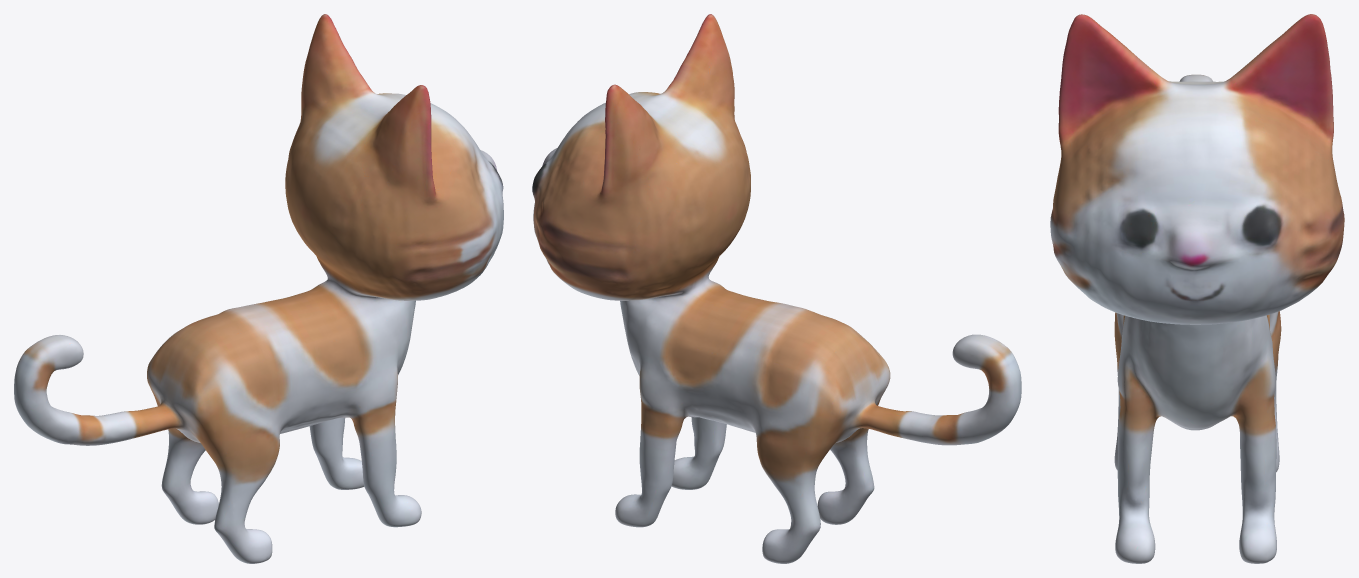
The model's file is cat.glb.
The picture shows the model from 3 angles, left to right: view 1: azimuth 30°, elevation 25°; view 2: azimuth 150°, elevation 25°; view 3: azimuth 270°, elevation 25°; orthographic projection. The views are drawn at different scales.
Visible parts, largest first — view 1: world; view 2: world; view 3: world.
Part boxes in pixels (x1=…): world: x1=14, y1=14, x2=503, y2=563; world: x1=532, y1=14, x2=1021, y2=563; world: x1=1050, y1=14, x2=1344, y2=563.
Bounding box in the file's own units: 0.5528 × 0.5064 × 0.2484.
Materials: 1 (1 with a texture image).
